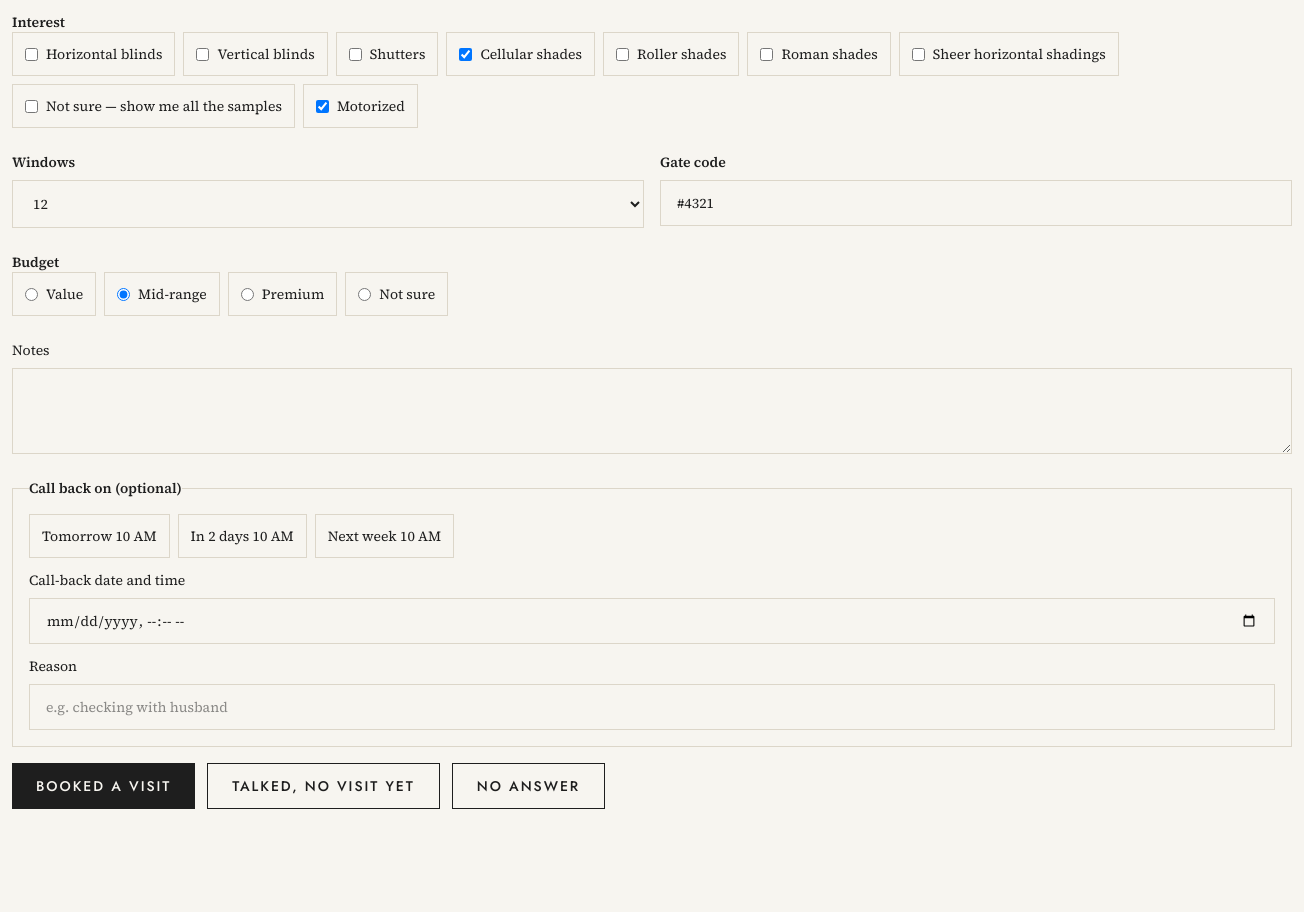
it: CallForm › fetches that day's schedule once a date is set
Click the button "Booked a visit".
click(104, 786)  # box [12,763,195,809]
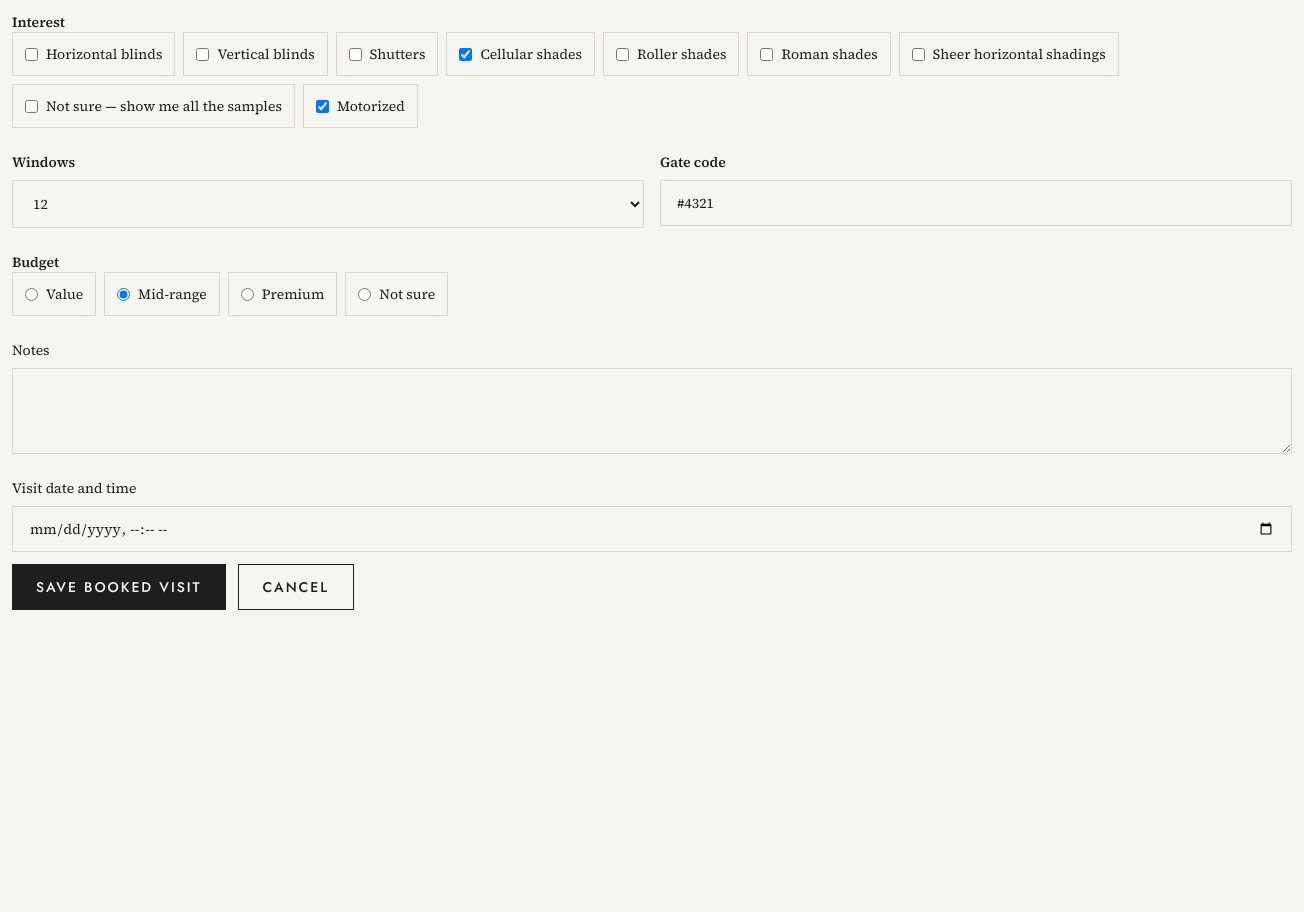
Type "2026-09-20T10:30" into the field labelled "Visit date and time".
click(652, 529); type("2026-09-20T10:30")  # box [12,506,1292,552]
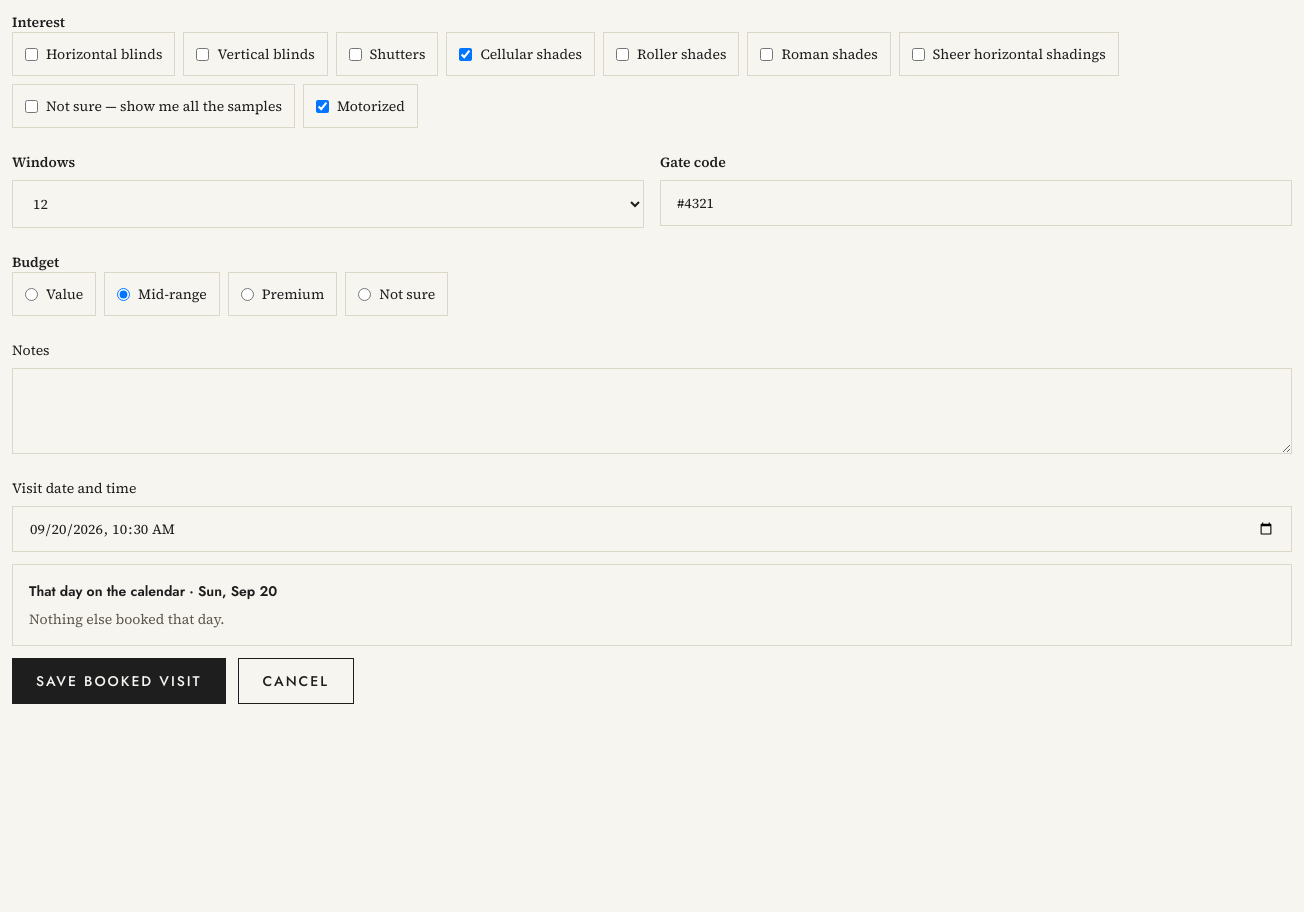
Check: the text "Nothing else booked that day." is shown, box [29,609,224,629]
